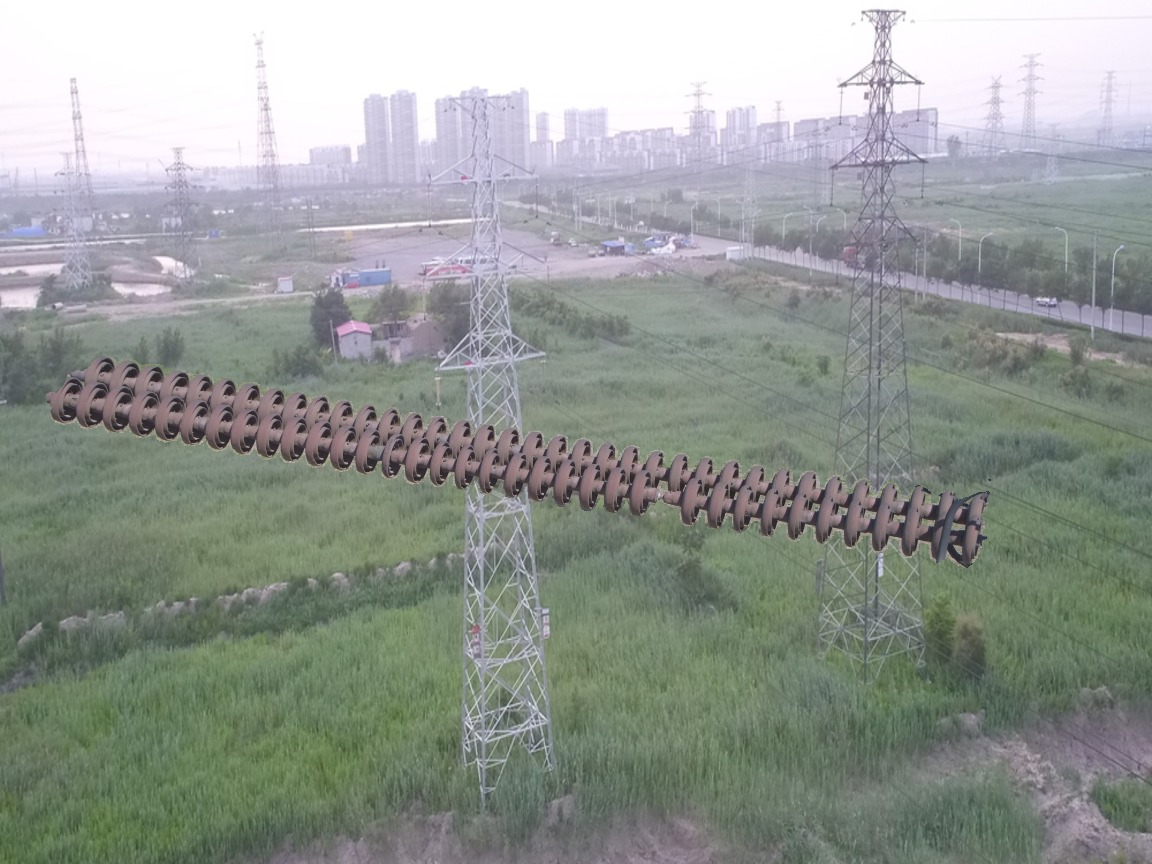defect: (621, 468, 704, 528)
